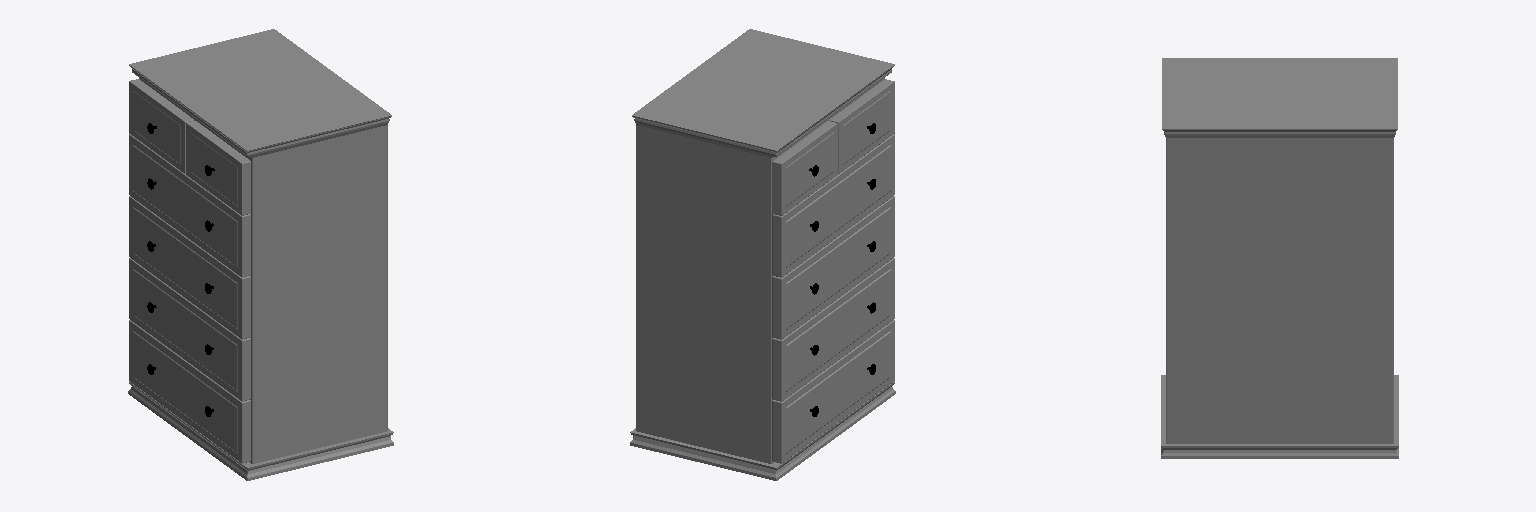
The picture shows the model from 3 angles: view 1: azimuth 30°, elevation 25°; view 2: azimuth 150°, elevation 25°; view 3: azimuth 270°, elevation 25°; orthographic projection.
Visible parts, largest first — view 1: drawer_body_drawer, drawer_drawers1_drawer_6_drawer_6, drawer_drawers1_drawer_5_drawer_5, drawer_drawers1_drawer_4_drawer_4, drawer_drawers1_drawer_3_drawer_3, drawer_drawers1_drawer_2_drawer_2, drawer_drawer_1_drawers1_drawer_1; view 2: drawer_body_drawer, drawer_drawers1_drawer_6_drawer_6, drawer_drawers1_drawer_5_drawer_5, drawer_drawers1_drawer_4_drawer_4, drawer_drawers1_drawer_3_drawer_3, drawer_drawer_1_drawers1_drawer_1, drawer_drawers1_drawer_2_drawer_2; view 3: drawer_body_drawer.
Boxes of the visible parts, <box> form: drawer_body_drawer: <box>128,29,393,480</box>; drawer_drawers1_drawer_6_drawer_6: <box>129,320,250,463</box>; drawer_drawers1_drawer_5_drawer_5: <box>129,258,250,401</box>; drawer_drawers1_drawer_4_drawer_4: <box>129,196,250,339</box>; drawer_drawers1_drawer_3_drawer_3: <box>129,134,250,277</box>; drawer_drawers1_drawer_2_drawer_2: <box>186,121,250,215</box>; drawer_drawer_1_drawers1_drawer_1: <box>129,79,194,173</box>; drawer_body_drawer: <box>630,29,895,480</box>; drawer_drawers1_drawer_6_drawer_6: <box>772,320,894,463</box>; drawer_drawers1_drawer_5_drawer_5: <box>772,258,894,401</box>; drawer_drawers1_drawer_4_drawer_4: <box>772,196,894,339</box>; drawer_drawers1_drawer_3_drawer_3: <box>772,134,894,277</box>; drawer_drawer_1_drawers1_drawer_1: <box>772,121,837,215</box>; drawer_drawers1_drawer_2_drawer_2: <box>829,79,894,173</box>; drawer_body_drawer: <box>1161,58,1398,458</box>.
Bounding box in the file's own units: 15.6 × 31.41 × 20.55.